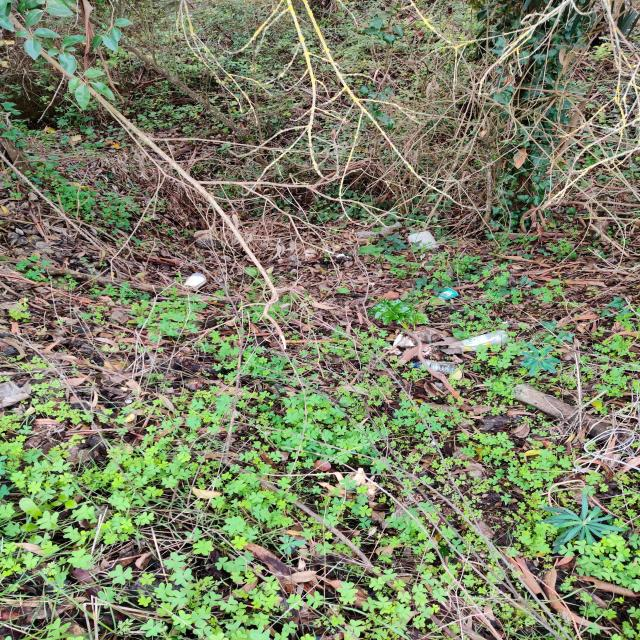litter: (448, 330, 511, 352), (421, 347, 465, 364), (410, 326, 451, 344), (412, 360, 457, 374), (408, 231, 439, 251), (183, 273, 206, 289), (386, 334, 416, 346), (380, 222, 403, 237), (435, 287, 459, 301), (353, 231, 380, 238), (382, 346, 403, 355)
